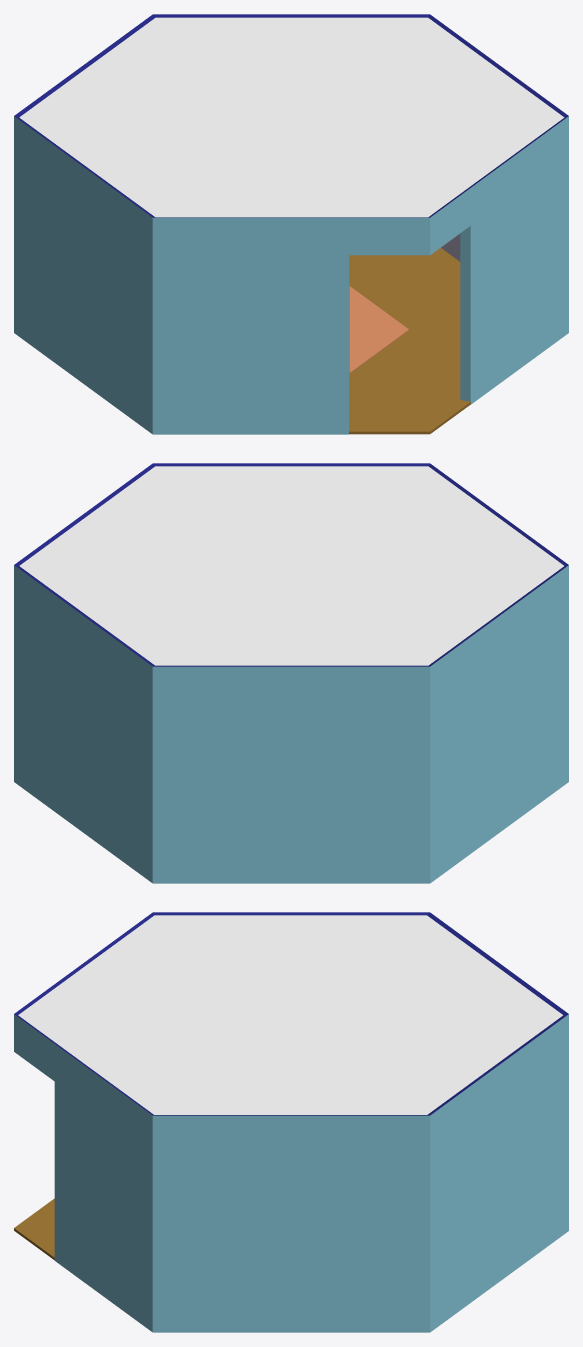
The model's file is salon.gltf.
The picture shows the model from 3 angles, top to bottom: view 1: azimuth 30°, elevation 25°; view 2: azimuth 150°, elevation 25°; view 3: azimuth 270°, elevation 25°; orthographic projection.
Parts seen in each view (by area): view 1: Círculo, techo, piso, Círculo.002; view 2: Círculo, techo; view 3: Círculo, techo, piso.
Boxes of the visible parts, x1=… form: Círculo: x1=14, y1=14, x2=568, y2=434; techo: x1=19, y1=17, x2=564, y2=217; piso: x1=349, y1=248, x2=470, y2=434; Círculo.002: x1=349, y1=286, x2=408, y2=372; Círculo: x1=14, y1=463, x2=568, y2=883; techo: x1=19, y1=466, x2=563, y2=665; Círculo: x1=14, y1=912, x2=568, y2=1332; techo: x1=18, y1=915, x2=562, y2=1114; piso: x1=14, y1=1198, x2=54, y2=1259.
Bounding box in the file's own units: 12.03 × 5.99 × 13.89.
